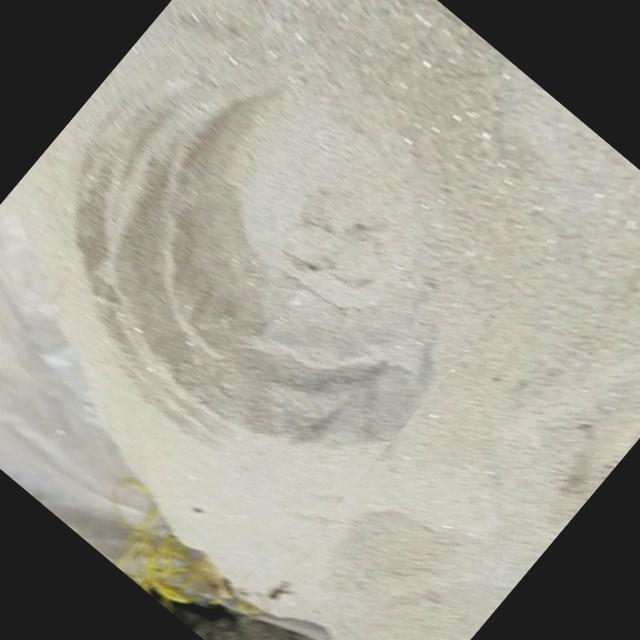C20: (76, 87, 462, 446)
